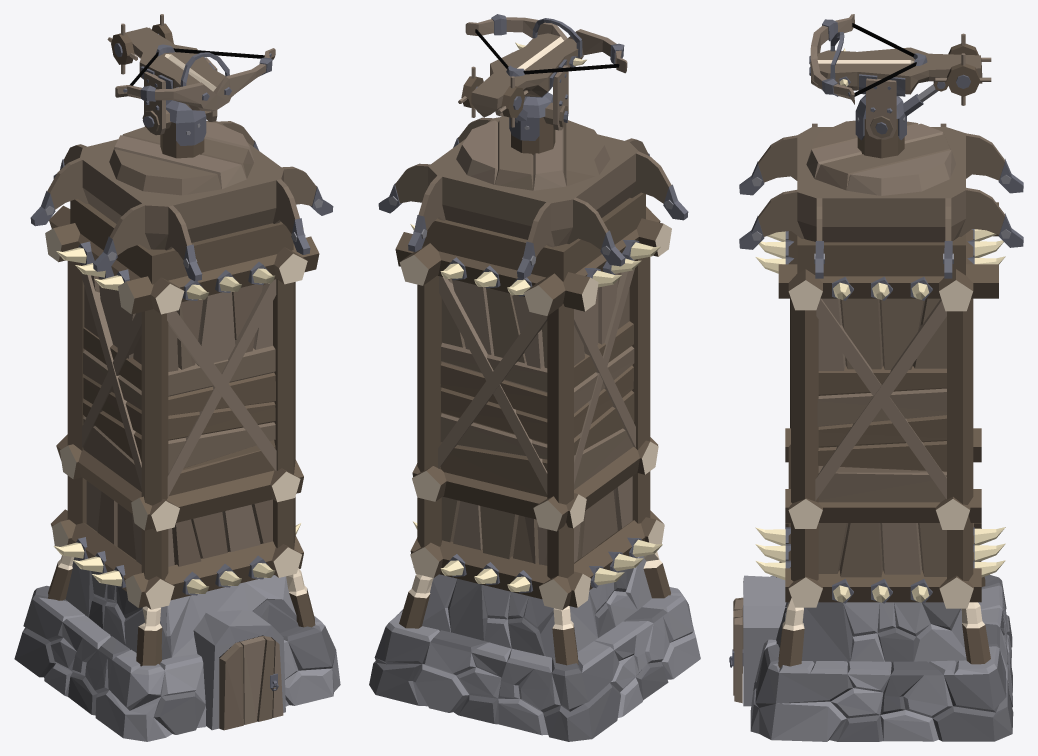
The model's file is _Ballista_tower_LVL_3.fbx.
3 renders of one model, left to right at view 1: azimuth 30°, elevation 25°; view 2: azimuth 150°, elevation 25°; view 3: azimuth 270°, elevation 25°, orthographic. The views are drawn at different scales.
Parts seen in each view (by area): view 1: Ballista_tower_LVL_3; view 2: Ballista_tower_LVL_3; view 3: Ballista_tower_LVL_3.
Part boxes in pixels (left/top/right/bottom): Ballista_tower_LVL_3: left=14, top=14, right=340, bottom=741; Ballista_tower_LVL_3: left=369, top=14, right=700, bottom=741; Ballista_tower_LVL_3: left=729, top=14, right=1023, bottom=741.
Bounding box in the file's own units: 684 × 1735 × 708.
